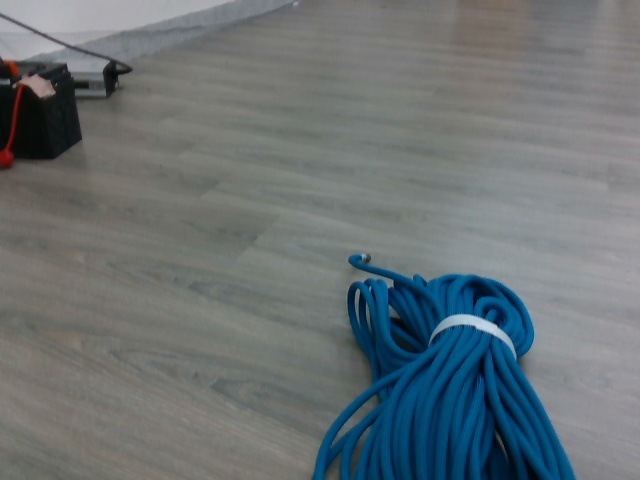rope: (305, 249, 582, 480)
